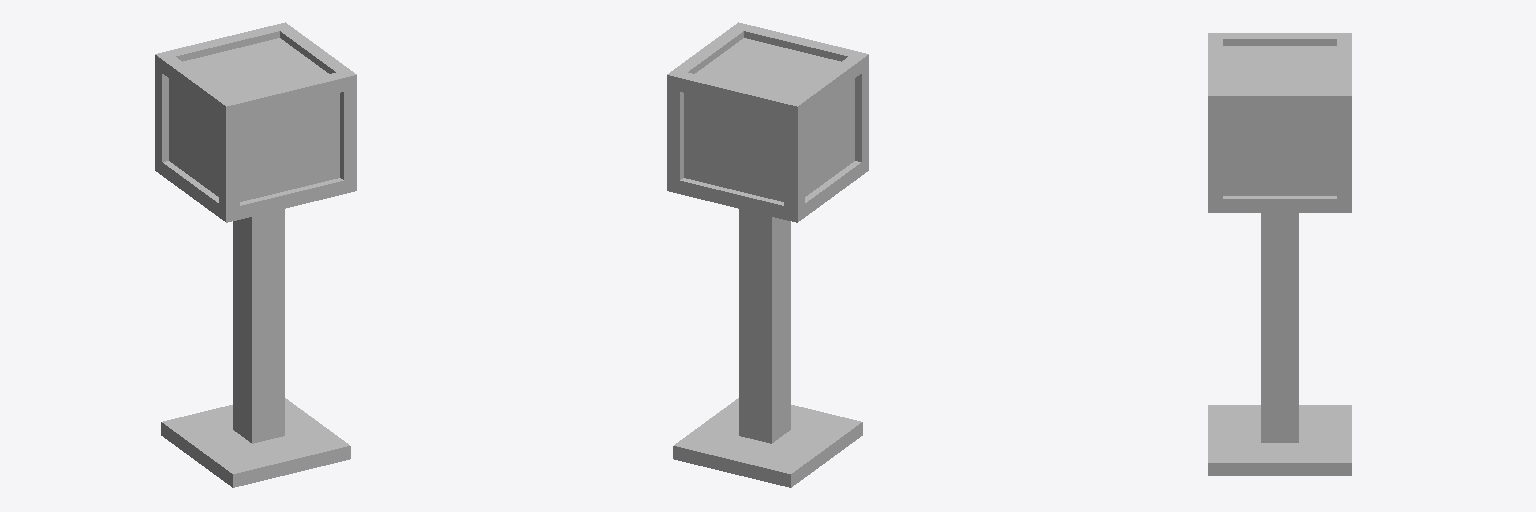
Rendered from lamp.obj.
3 views of the same model, side by side, from view 1: azimuth 30°, elevation 25°; view 2: azimuth 150°, elevation 25°; view 3: azimuth 270°, elevation 25° (orthographic).
Visible parts, largest first — view 1: object 1; view 2: object 1; view 3: object 1.
Boxes of the visible parts, x1=… form: object 1: x1=155, y1=22, x2=356, y2=487; object 1: x1=667, y1=22, x2=868, y2=487; object 1: x1=1208, y1=33, x2=1351, y2=475.
Bounding box in the file's own units: 2 × 5.6 × 1.9.